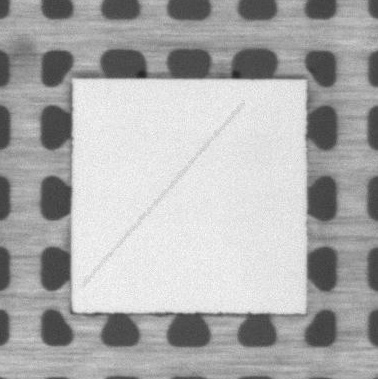DIE_CRACK: (83, 103, 243, 286)
